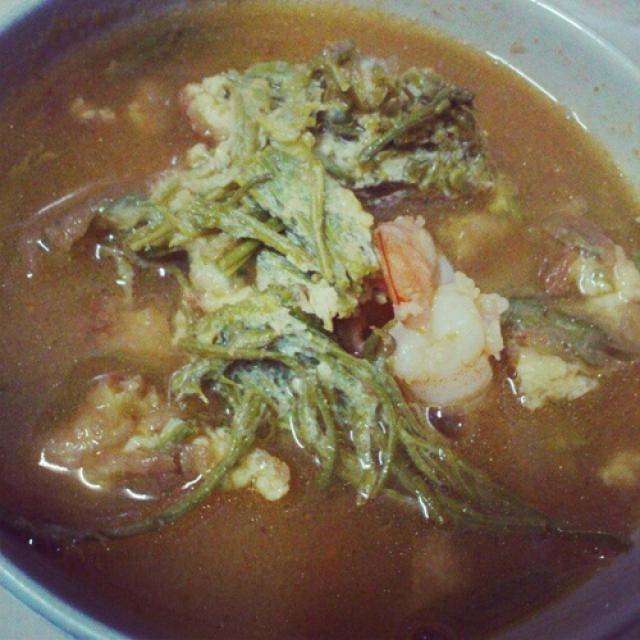汤锅炖物: (5, 5, 634, 629)
